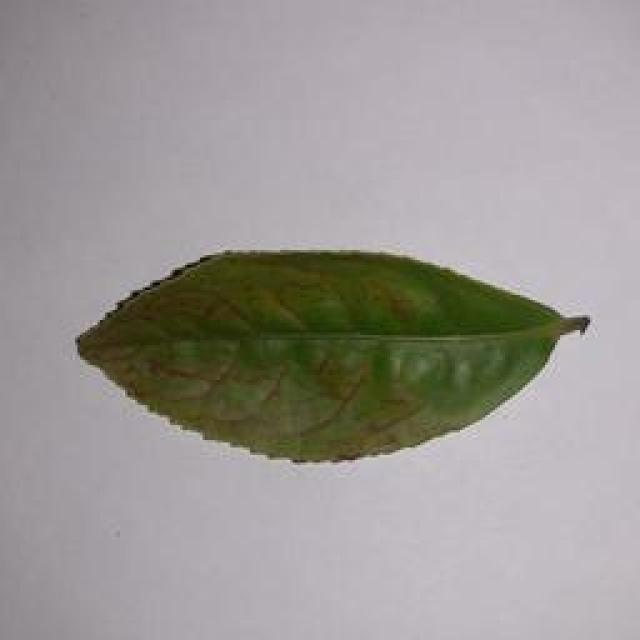Red Leaf Spot: (83, 231, 593, 482)
